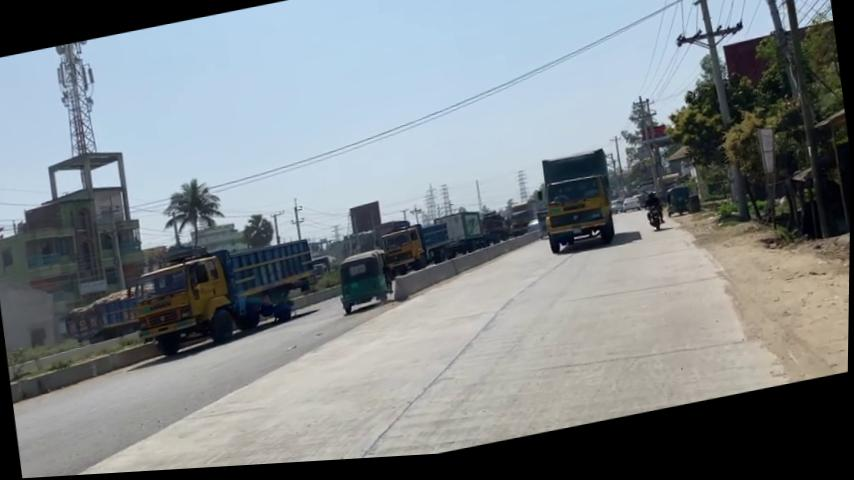Curb: (644, 210, 667, 241)
Garbage: (666, 0, 767, 240)
Railroad-crossing: (158, 174, 229, 255), (239, 213, 276, 254)
Rickshaw: (124, 223, 324, 364), (536, 153, 619, 263), (325, 242, 412, 322)
